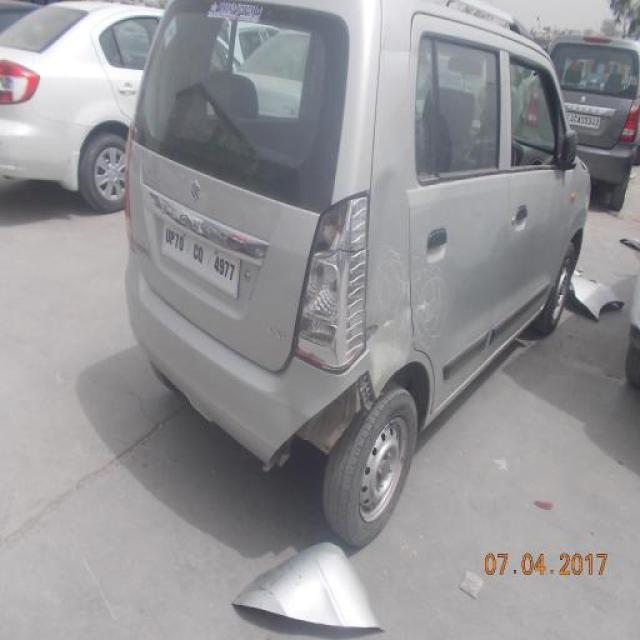missing: (267, 369, 380, 471)
scratch: (365, 238, 459, 356)
shatter: (304, 194, 369, 268)
